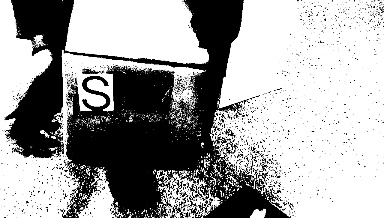S: (77, 72, 112, 111)
